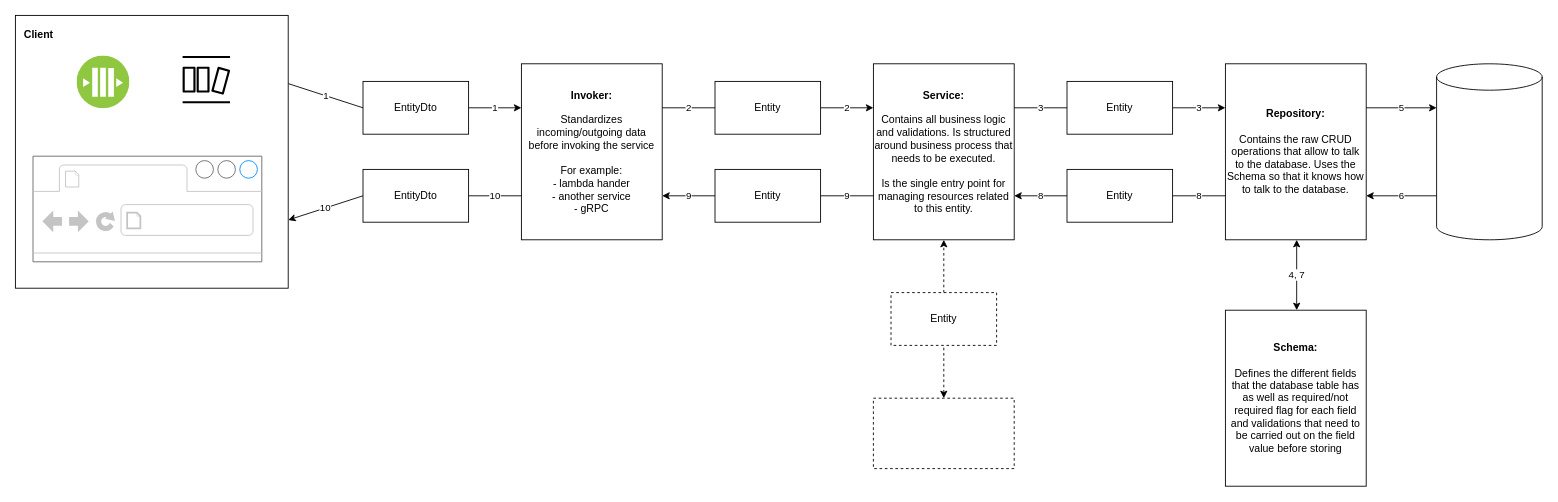
This 1558x502 diagram has some shape labels left out. The shapes that lost their labels are listed below. From the top down, each one's centre as x and y in pixels, then its label:
At pixel 103 81: "Message Bus".
At pixel 206 79: "DynamoDB Stream".
At pixel 1489 151: "DynamoDB Table".
At pixel 134 178: "Application".
At pixel 257 220: "Web Browser".
At pixel 943 433: "Other Services".
